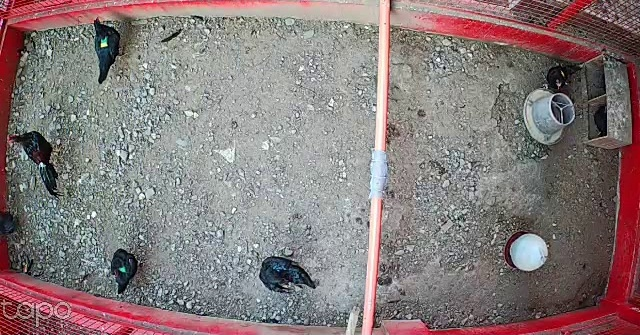Chicken: (257, 251, 322, 293), (90, 14, 127, 86), (542, 60, 589, 93), (112, 244, 140, 299)
Rooster: (6, 128, 65, 199)
Saddle_Color_YellowGreen: (99, 37, 109, 49)
